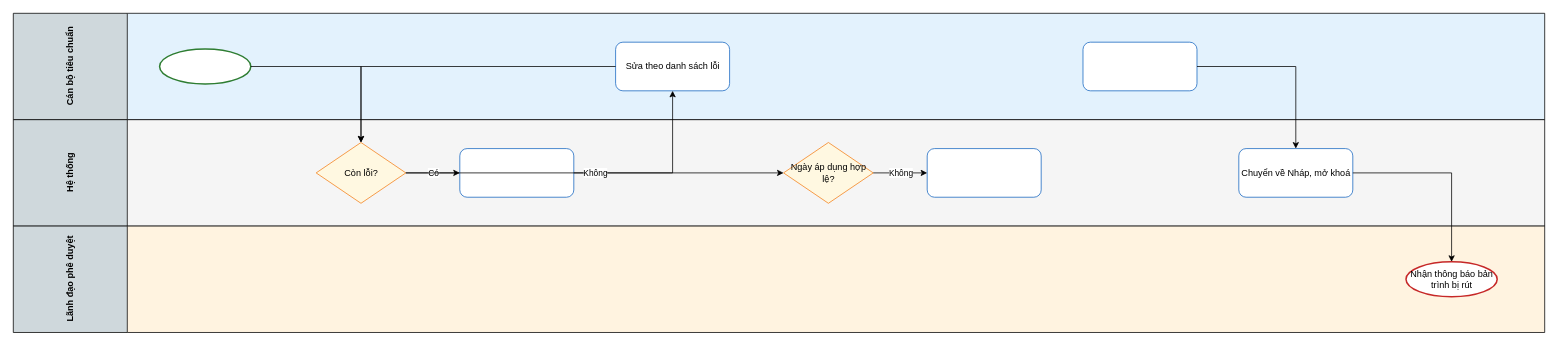
This 1558x346 diagram has some shape labels left out. The shapes that lost their labels are listed below. From the top down, each one's centre as x and y in pixels, then its label:
pixel 204 66: Nhấn Kiểm tra hoặc Trình
pixel 1139 66: Nhấn Rút lại, nhập lý do
pixel 516 172: Hiển thị lỗi theo lớp, khoá nút Trình
pixel 983 172: Báo ngày phải là ngày tương lai
